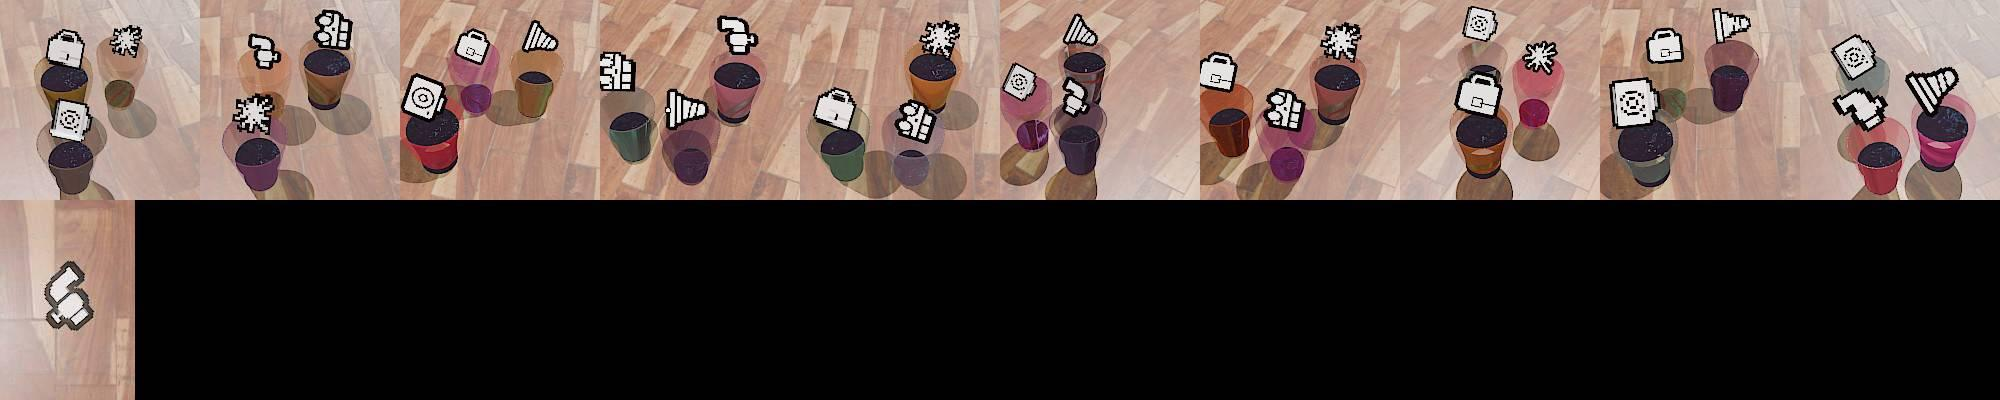icon: (42, 259, 96, 332), (1608, 76, 1659, 130), (1906, 66, 1960, 116), (1455, 68, 1504, 118), (402, 73, 449, 124), (1833, 87, 1888, 130), (1830, 34, 1878, 82), (894, 98, 939, 144), (812, 87, 856, 132), (663, 87, 709, 130), (232, 92, 276, 136), (1263, 85, 1305, 131), (48, 98, 91, 143), (717, 15, 760, 57), (1320, 20, 1362, 62), (46, 28, 88, 69), (920, 19, 960, 60), (1198, 51, 1237, 92), (315, 9, 353, 51), (597, 50, 635, 92), (1645, 27, 1685, 65), (1001, 62, 1038, 102), (1712, 8, 1751, 45), (453, 27, 490, 66), (1462, 5, 1499, 43), (1522, 39, 1559, 76), (1060, 75, 1091, 117), (1062, 13, 1098, 48), (247, 33, 282, 70), (522, 20, 560, 54), (108, 24, 143, 59)
